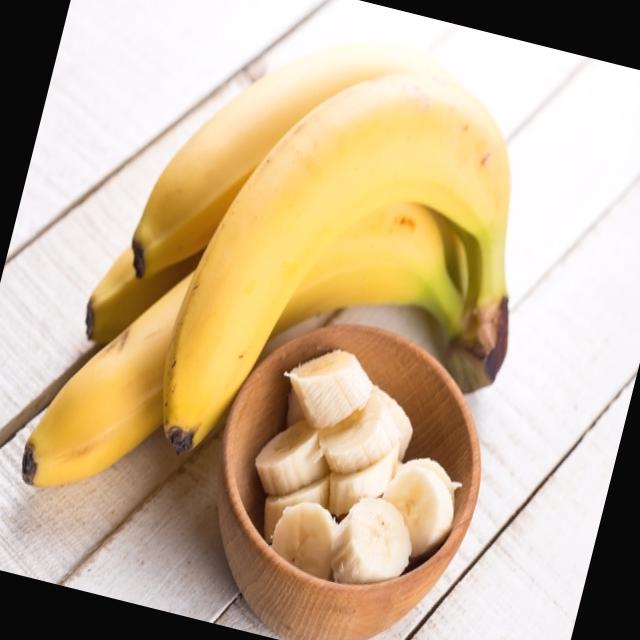banana: (4, 110, 483, 580), (128, 26, 556, 544), (127, 6, 500, 365)
